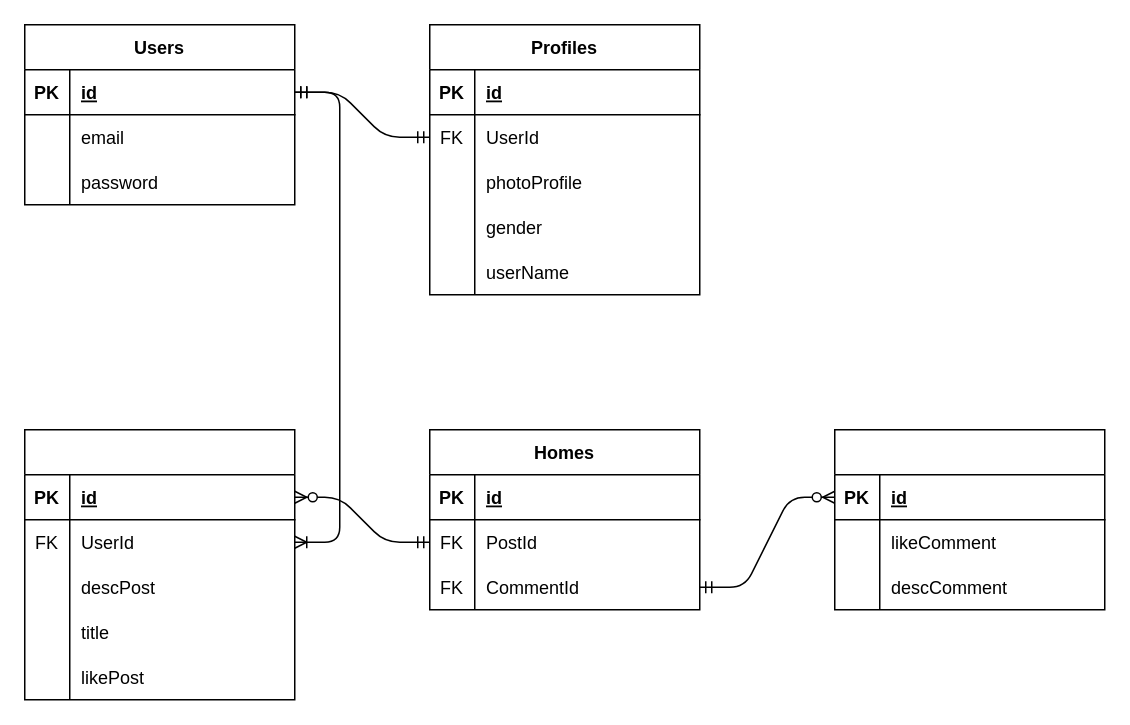
The diagram is 1130 pixels wide and 725 high, and some of its shapes have lost their labels. Here are the shapes that lost their labels. From the top down, the box of each, then its label:
(833, 428, 1105, 610): Comments
(23, 428, 295, 700): Posts
